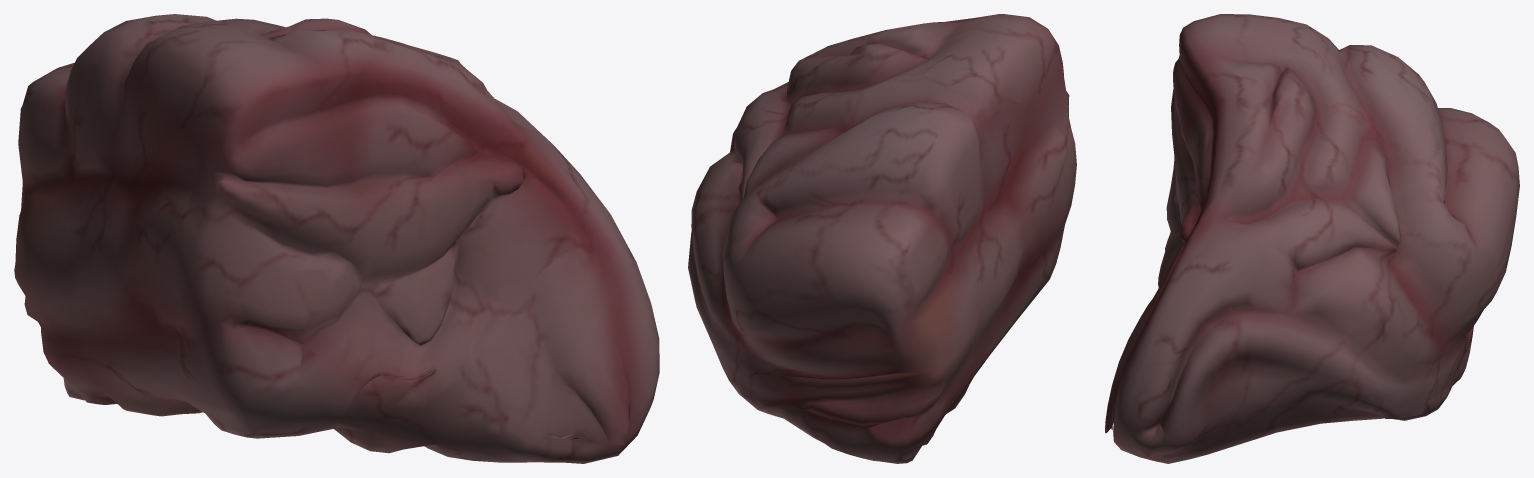
The model's file is Parietal_Lobe.gltf.
3 views of the same model, side by side, from view 1: azimuth 30°, elevation 25°; view 2: azimuth 150°, elevation 25°; view 3: azimuth 270°, elevation 25° (orthographic). The views are drawn at different scales.
Parts seen in each view (by area): view 1: Parietal_Lobe_Left; view 2: Parietal_Lobe_Left; view 3: Parietal_Lobe_Left.
Part boxes in pixels (x1=…): Parietal_Lobe_Left: x1=14, y1=14, x2=659, y2=463; Parietal_Lobe_Left: x1=688, y1=14, x2=1076, y2=463; Parietal_Lobe_Left: x1=1105, y1=14, x2=1519, y2=463.
Bounding box in the file's own units: 6.74 × 6.72 × 7.39.
1 material, 1 textured.
